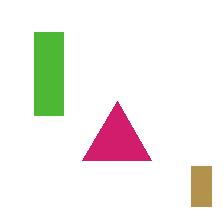rectangle: (34, 32, 63, 115), (191, 166, 211, 206)
triangle: (82, 101, 151, 160)
